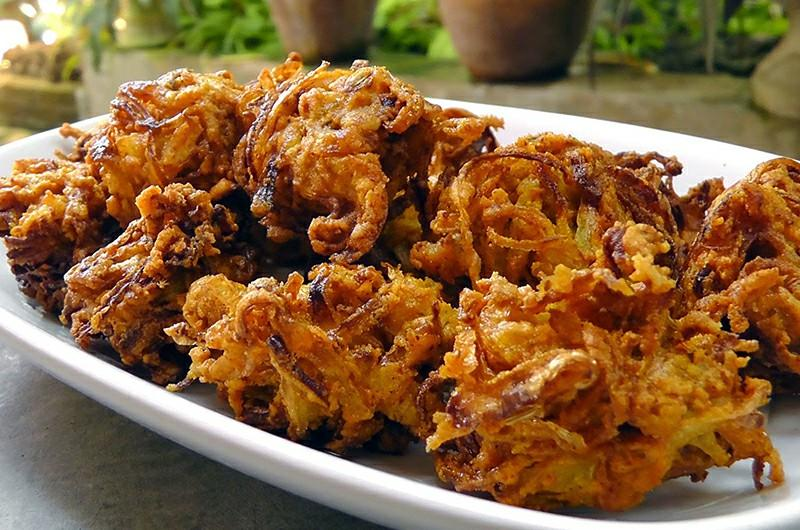OnionPakoda: (0, 48, 800, 511)
